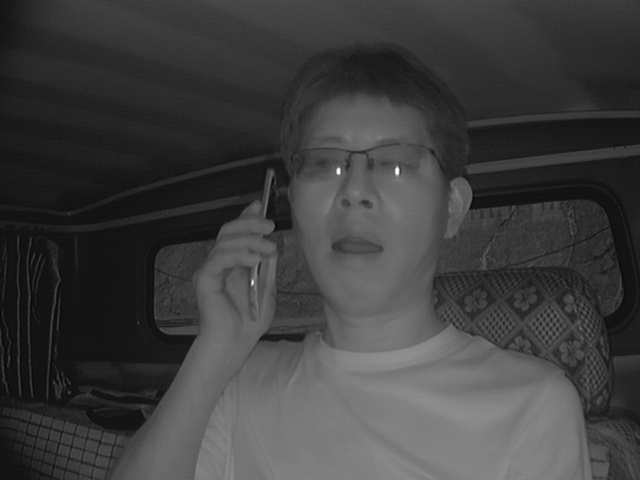hand: (194, 202, 284, 342)
